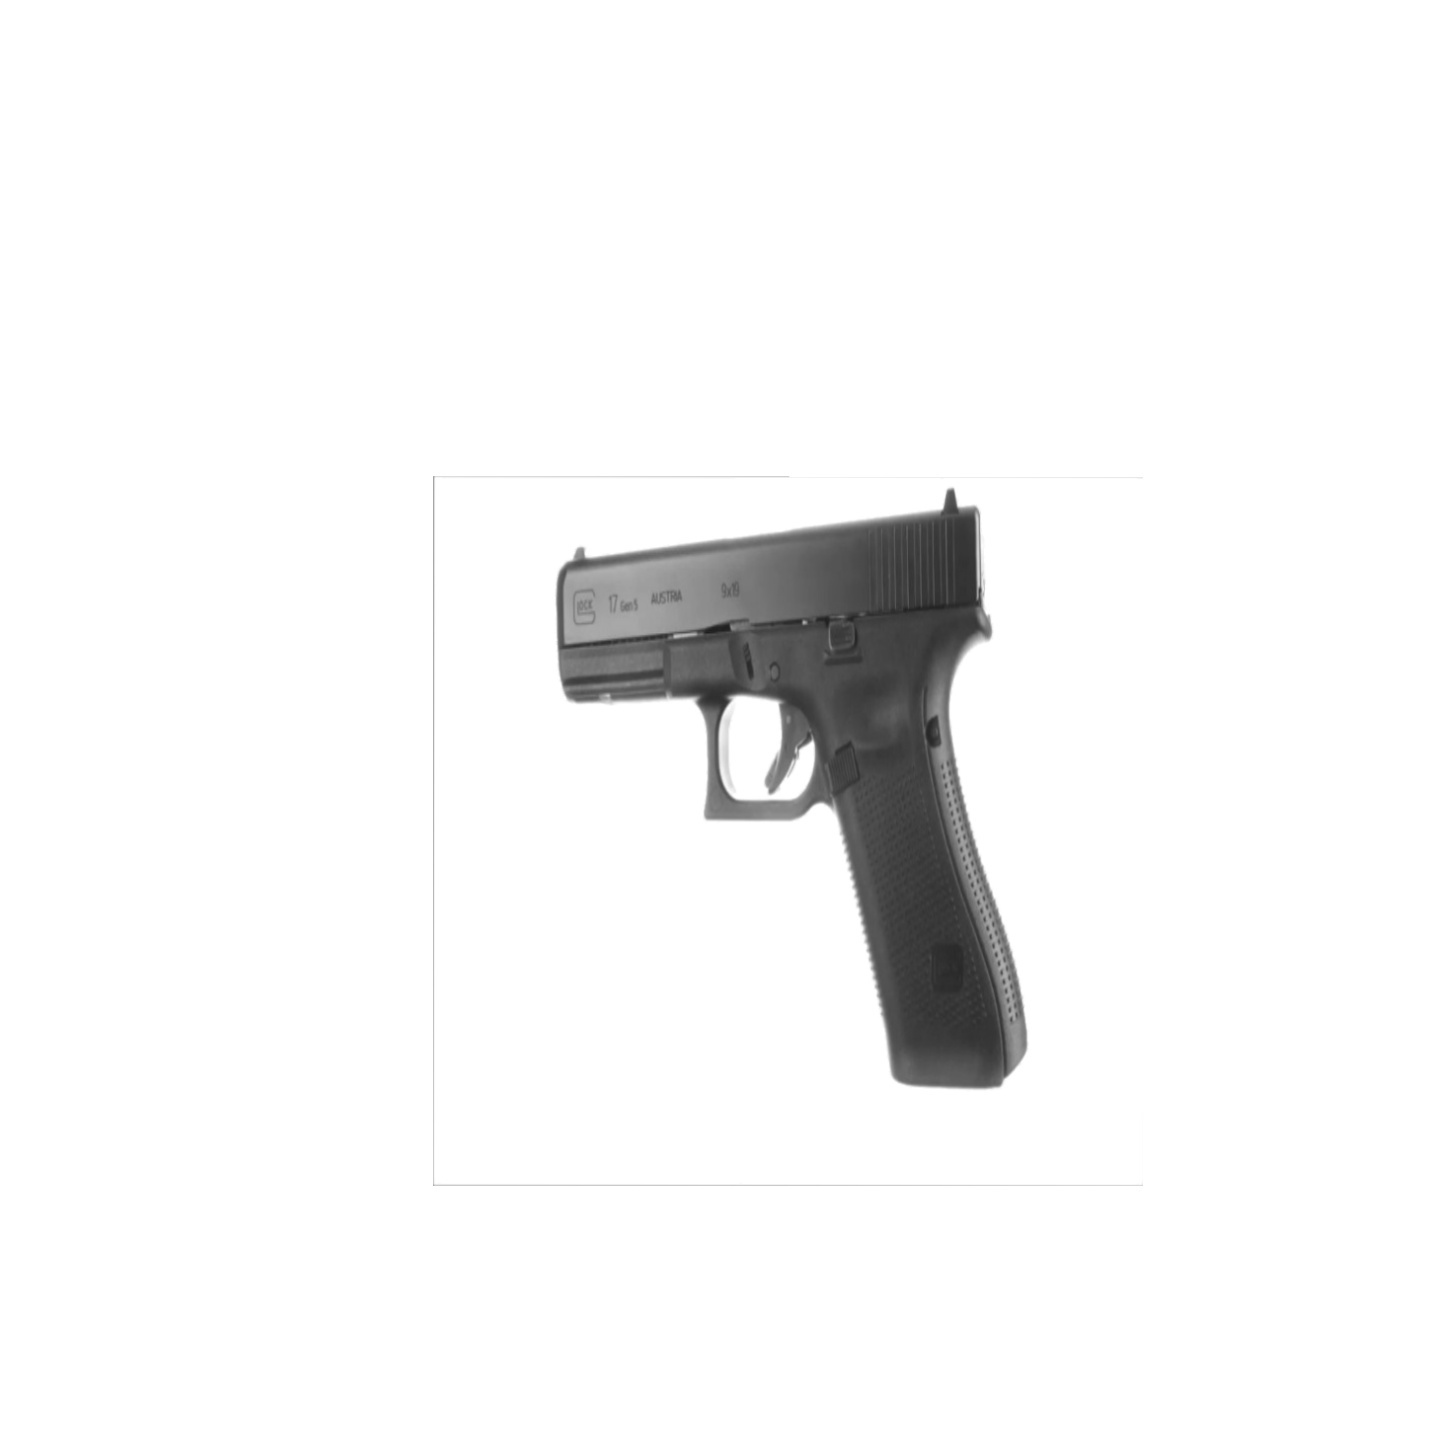gun: (544, 486, 1098, 1100)
